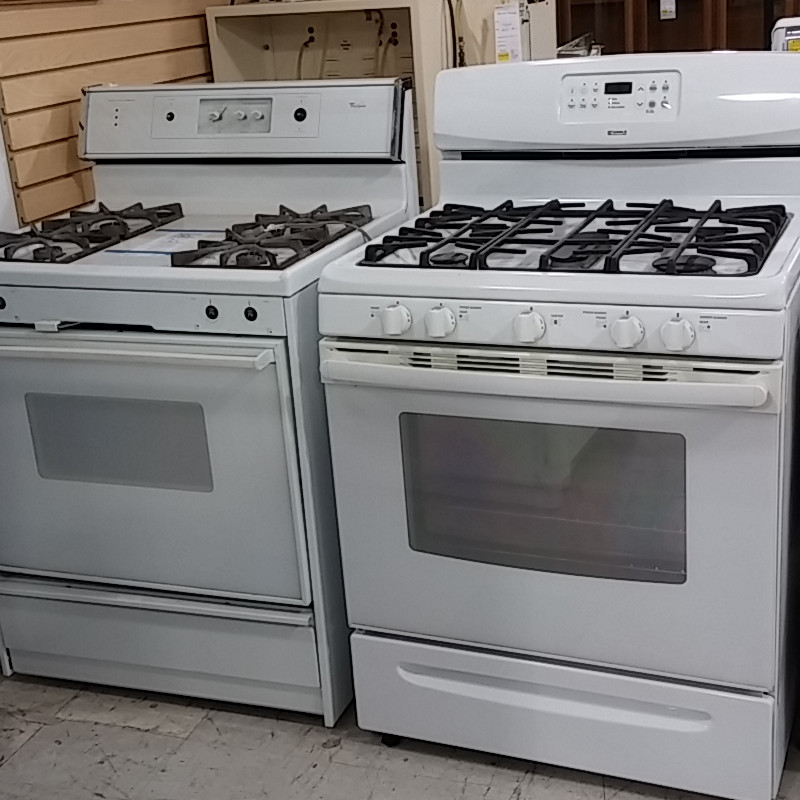stove: (385, 72, 789, 794)
